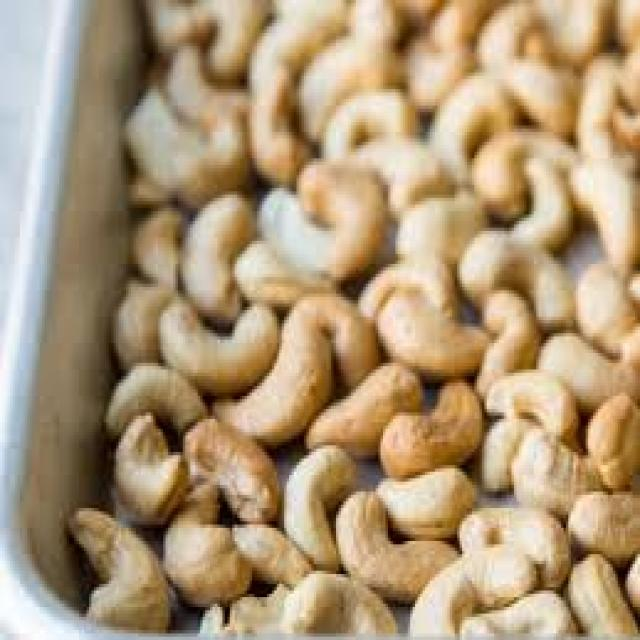cashew: (385, 287, 500, 384), (70, 516, 162, 618), (456, 235, 578, 302), (582, 155, 640, 289), (168, 306, 267, 382), (307, 383, 418, 446), (375, 406, 495, 464), (187, 205, 254, 308), (511, 429, 593, 512), (493, 365, 586, 437), (439, 545, 544, 607), (260, 354, 335, 436), (294, 453, 341, 578), (110, 419, 173, 505), (356, 507, 408, 594), (116, 369, 198, 421), (416, 486, 461, 535)
